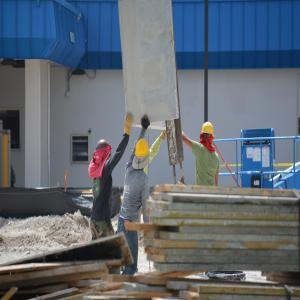yellow: (133, 139, 151, 167), (200, 123, 216, 146)
